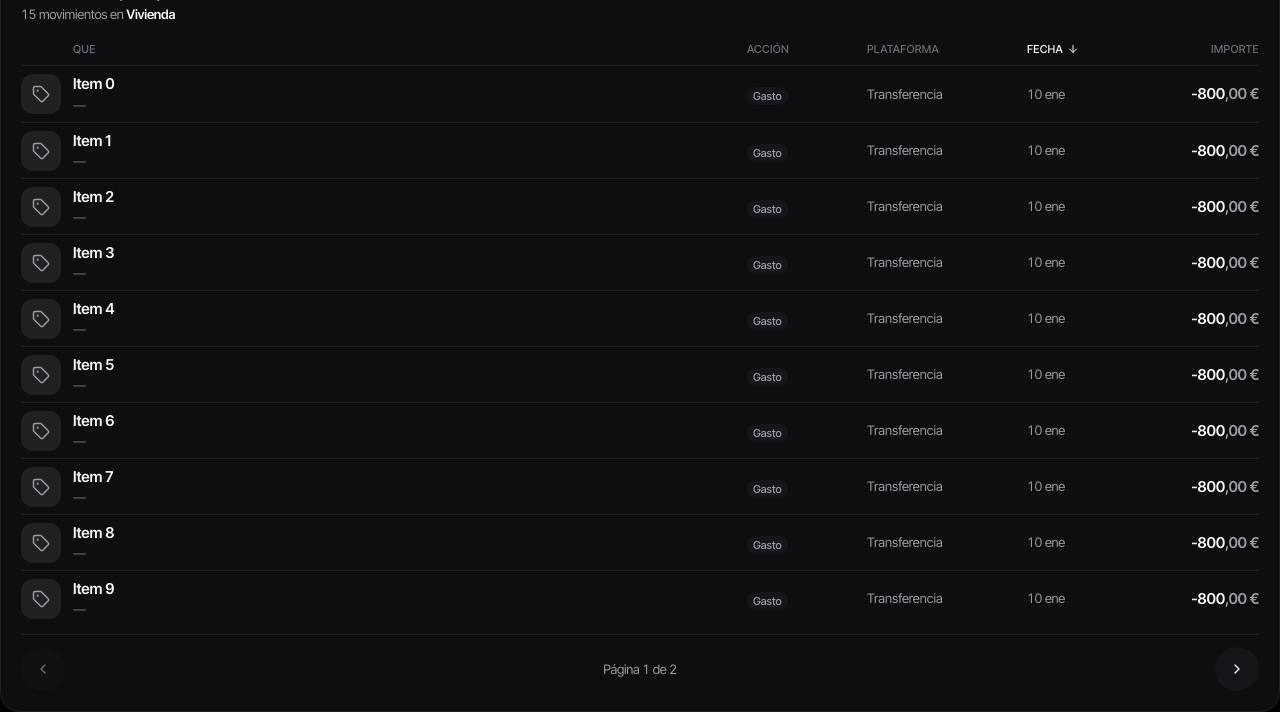
it: TipoEntriesTable › paginates to the next page
The width and height of the screenshot is (1280, 712).
(page scrolled)
Expected: the text "Página 1 de 2" is shown, top-left (603, 660), bottom-right (677, 679)
Click the button named "Página siguiente" at point(1237, 669), box top-left (1215, 647), bottom-right (1259, 691)
(page scrolled)
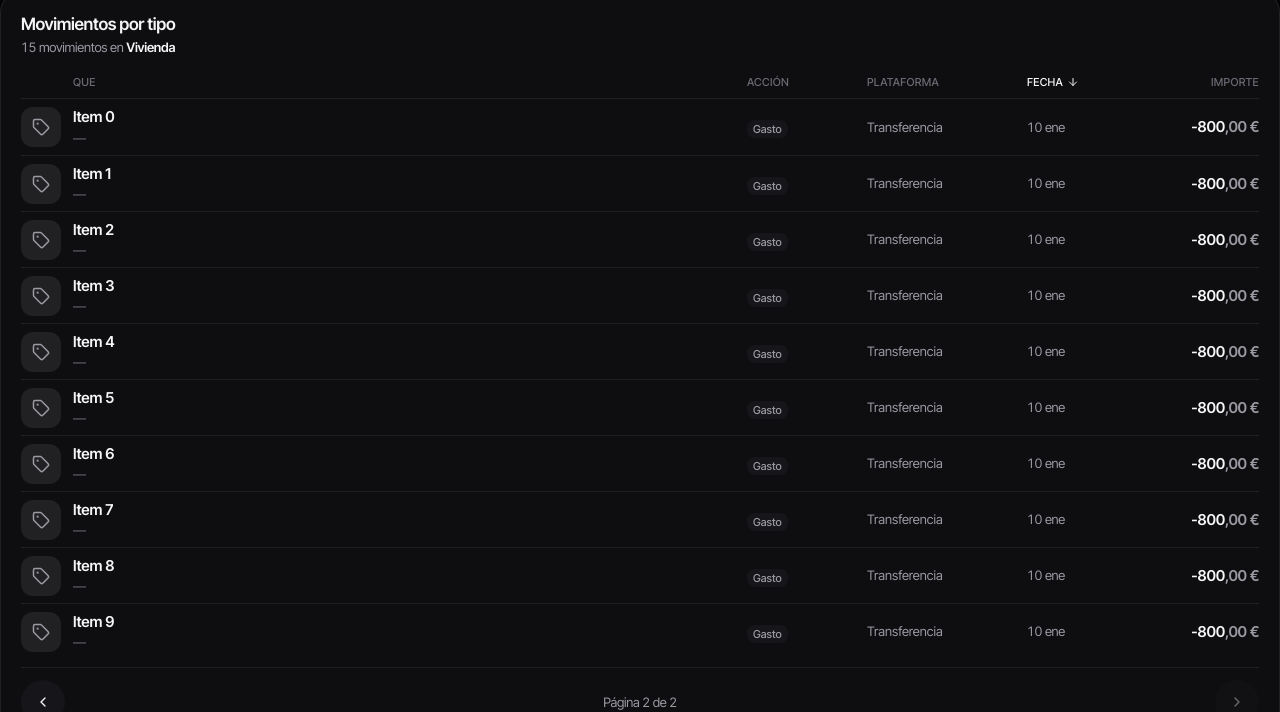
Expected: the text "Página 2 de 2" is shown, top-left (603, 693), bottom-right (677, 711)
